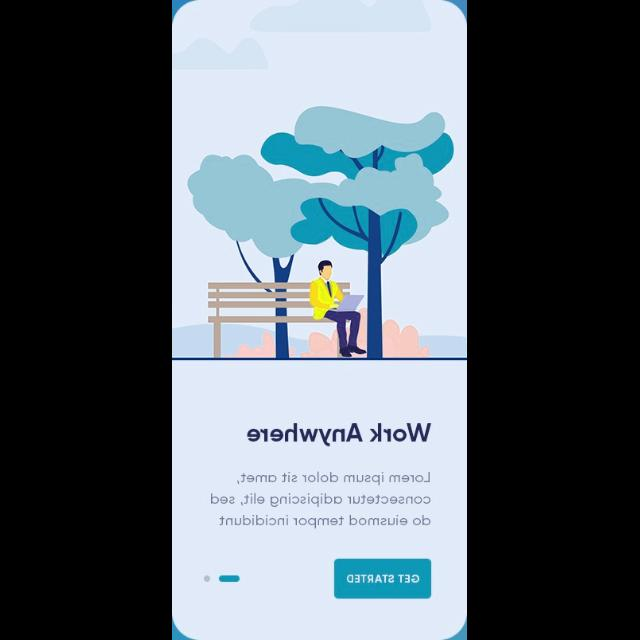image: (173, 1, 467, 361)
pageindicator: (203, 576, 240, 582)
text: (211, 471, 431, 529), (246, 423, 432, 447)
textbutton: (334, 559, 432, 599)
